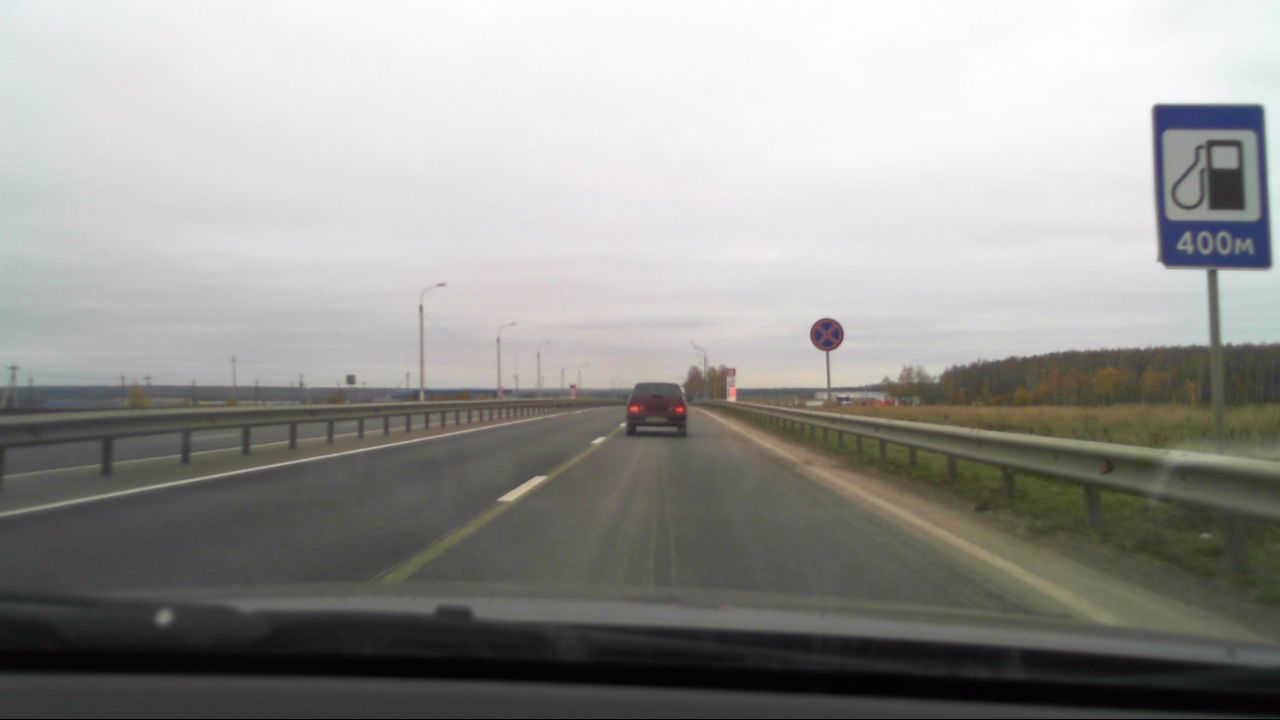No Parking: (809, 316, 845, 354)
